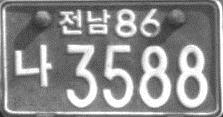3: (63, 42, 98, 107)
5: (102, 43, 134, 109)
6: (140, 7, 161, 38)
8: (175, 44, 209, 109), (138, 44, 171, 107), (115, 7, 137, 38)
나: (13, 43, 52, 89)
전남_O: (59, 9, 110, 35)
